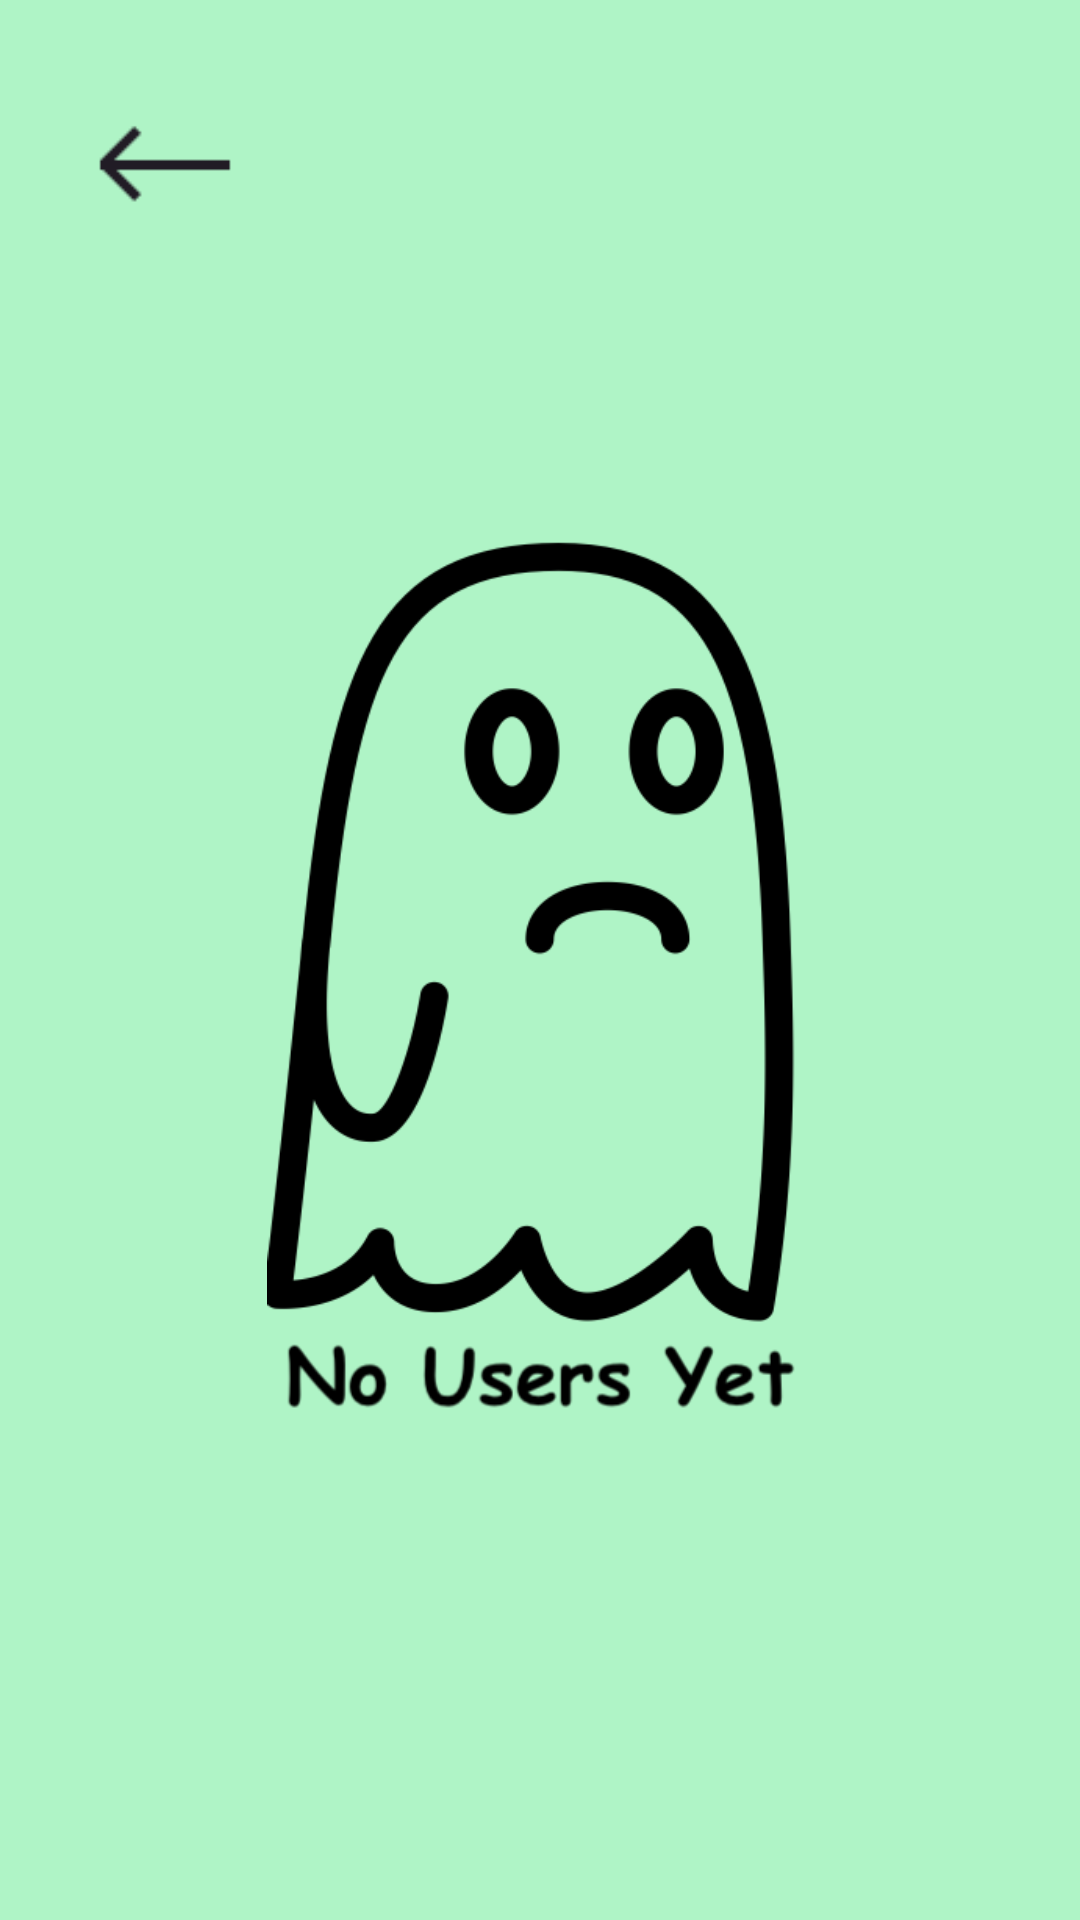

Where icons sit on this 1080px×1920px app screen, as (x1, y1, x2, y2):
back: (99, 126, 231, 202)
